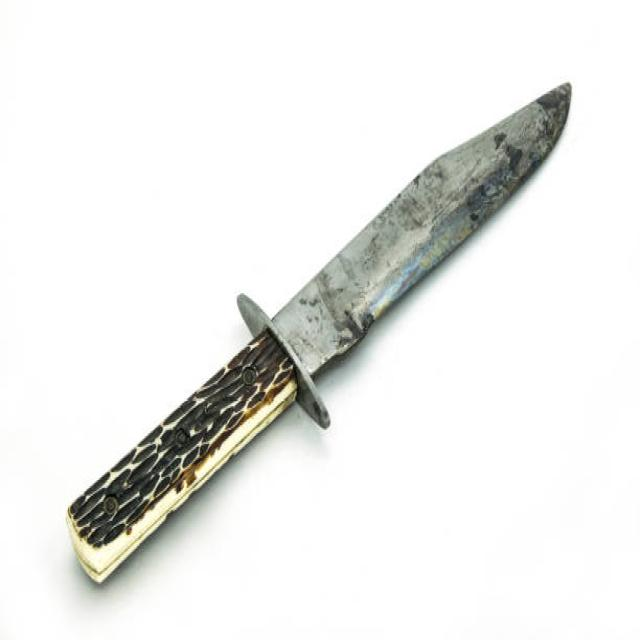knife: (64, 74, 580, 591)
